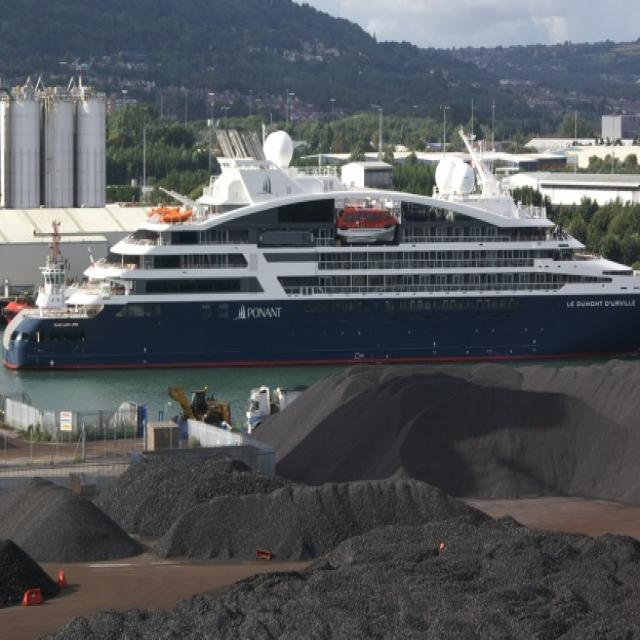cruises: (1, 127, 640, 378)
